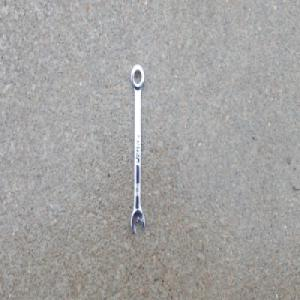Wrench: (130, 62, 145, 235)
